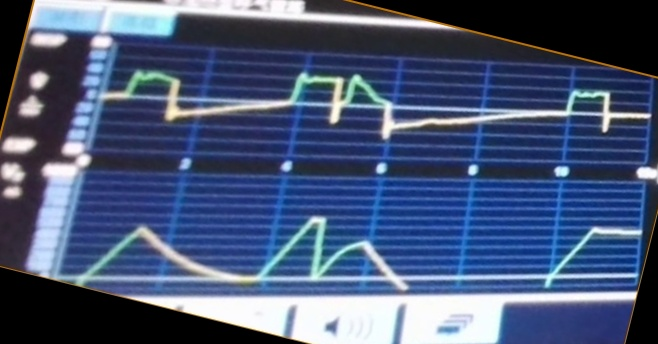Double_Triggering Flow: (111, 69, 622, 147)
Double_Triggering Volume: (82, 212, 636, 286)
